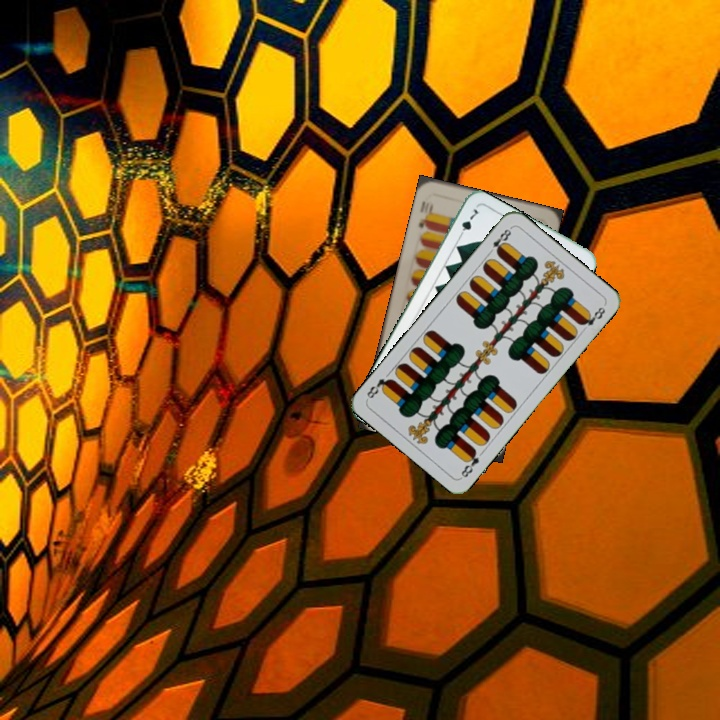E10: (414, 197, 436, 232)
E8: (484, 223, 514, 258), (457, 445, 482, 481)
G7: (454, 205, 482, 241)
